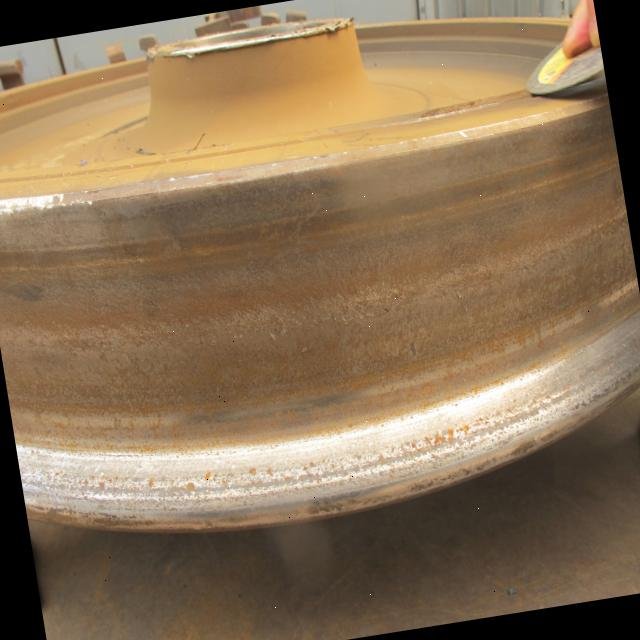Contact_Fatigue_Cracks: (344, 306, 394, 327), (439, 285, 467, 306)
